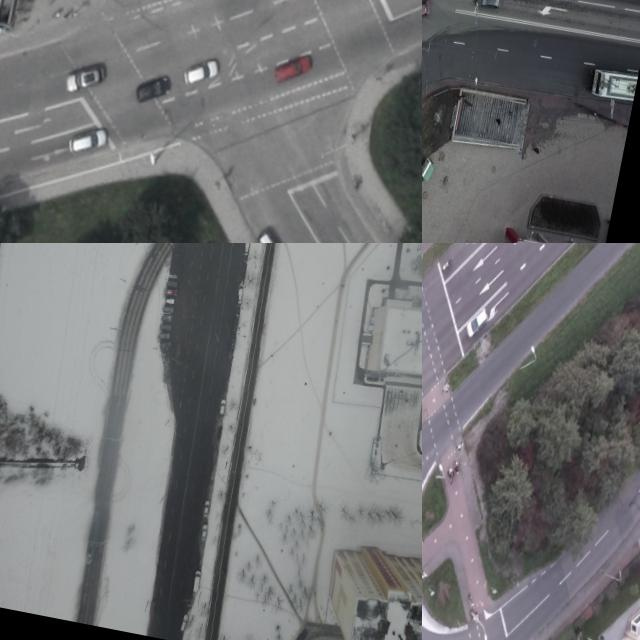UAI: (62, 57, 109, 101), (65, 122, 111, 163), (271, 48, 315, 89), (179, 52, 221, 92), (133, 70, 173, 108), (465, 303, 490, 340), (252, 229, 290, 243), (472, 0, 503, 11), (422, 0, 433, 27), (180, 612, 190, 632), (199, 523, 209, 542), (296, 626, 309, 640), (203, 499, 212, 518), (218, 399, 228, 416), (236, 288, 245, 306), (228, 334, 237, 352), (149, 600, 158, 618), (165, 287, 178, 298), (159, 341, 172, 352), (233, 310, 241, 327), (160, 314, 173, 324), (166, 281, 179, 290), (162, 305, 175, 314), (158, 332, 171, 341), (243, 243, 251, 256), (159, 323, 172, 331), (164, 297, 175, 306)
harvester: (192, 570, 203, 593)
